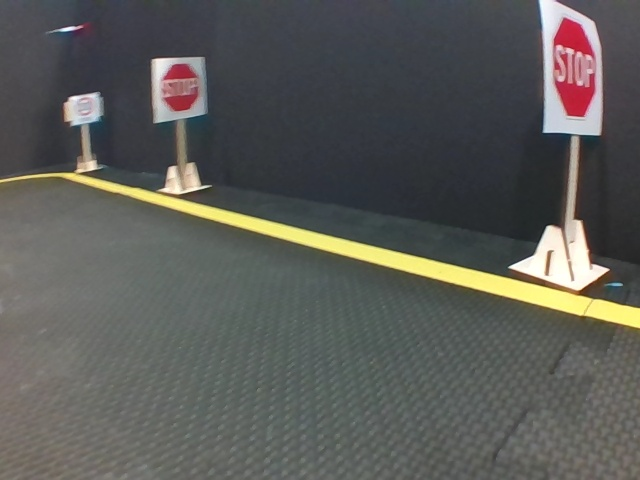30: (69, 93, 99, 123)
stop: (542, 2, 601, 131), (151, 58, 206, 118)
